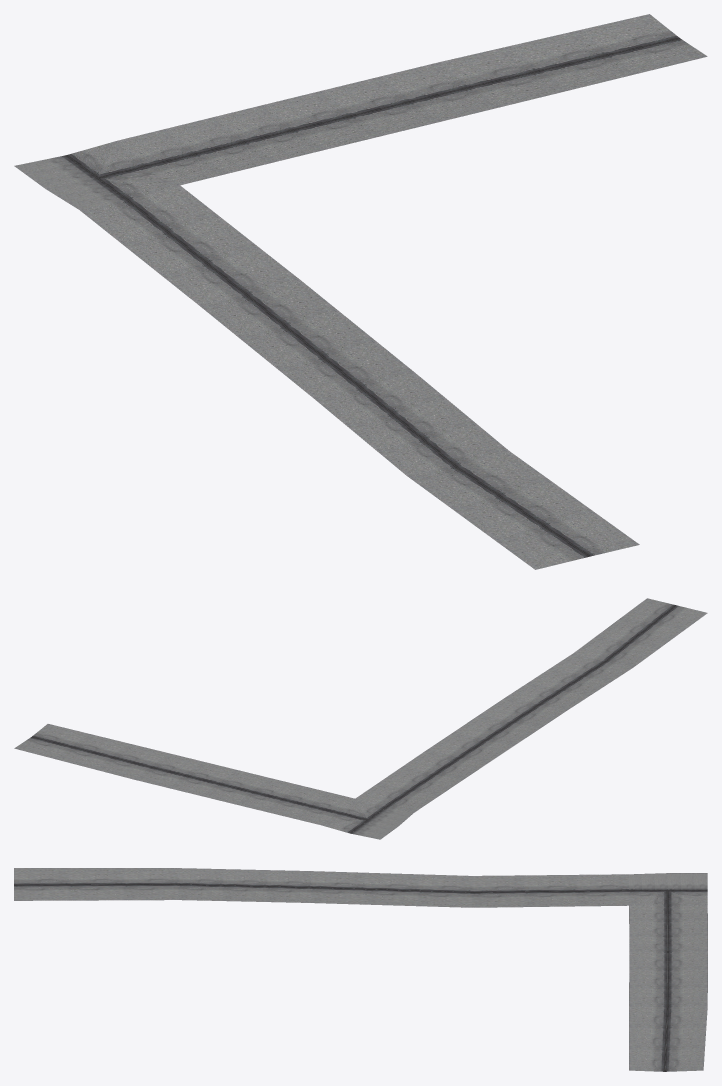
The model's file is alleyfuckingway_sfs.obj.
3 views of the same model, one above another, from view 1: azimuth 30°, elevation 25°; view 2: azimuth 150°, elevation 25°; view 3: azimuth 270°, elevation 25° (orthographic). The views are drawn at different scales.
Parts seen in each view (by area): view 1: alleyfuckingway_SFS; view 2: alleyfuckingway_SFS; view 3: alleyfuckingway_SFS.
Part boxes in pixels (x1,y1,x2,y2): alleyfuckingway_SFS: (14, 14, 707, 569); alleyfuckingway_SFS: (14, 598, 707, 839); alleyfuckingway_SFS: (14, 868, 707, 1071).
Bounding box in the file's own units: 45.51 × 0.4204 × 65.45.
Materials: 1 (1 with a texture image).
